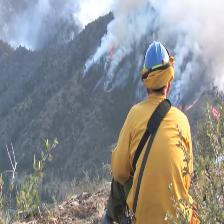smoke: (62, 0, 224, 98), (0, 0, 153, 51)
